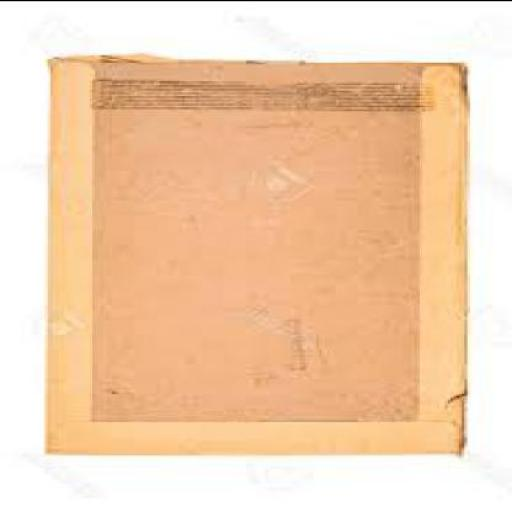cardboard: (41, 54, 465, 456)
